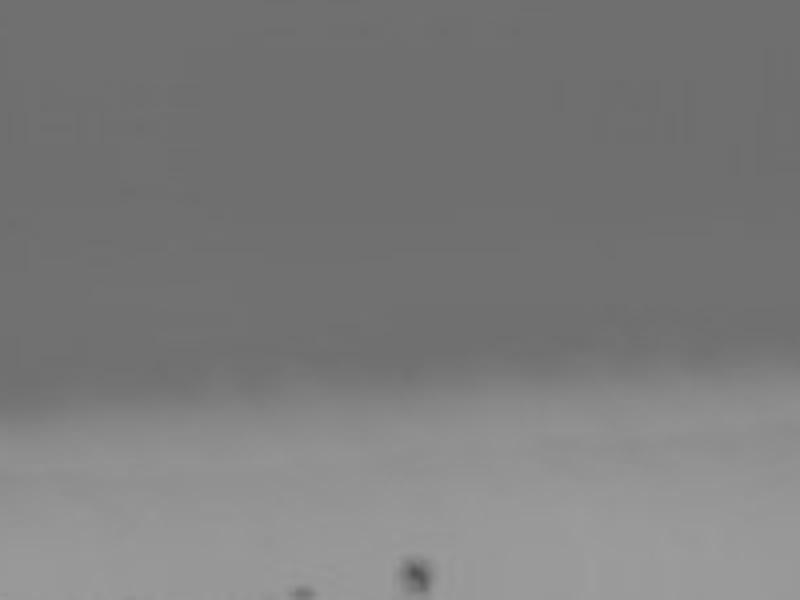defect: (397, 555, 437, 592), (288, 585, 317, 600)
